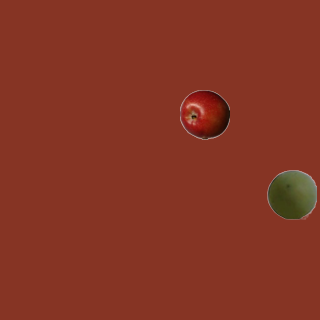Apple Braeburn: (179, 89, 229, 139)
Grape White 4: (266, 169, 316, 219)
